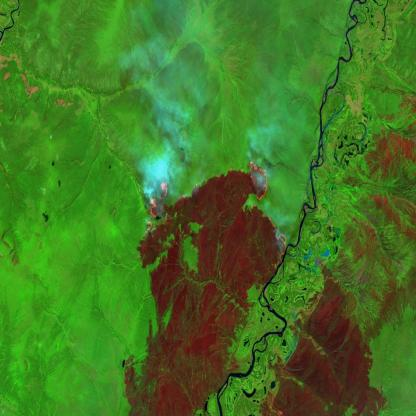fire: (141, 159, 290, 271)
